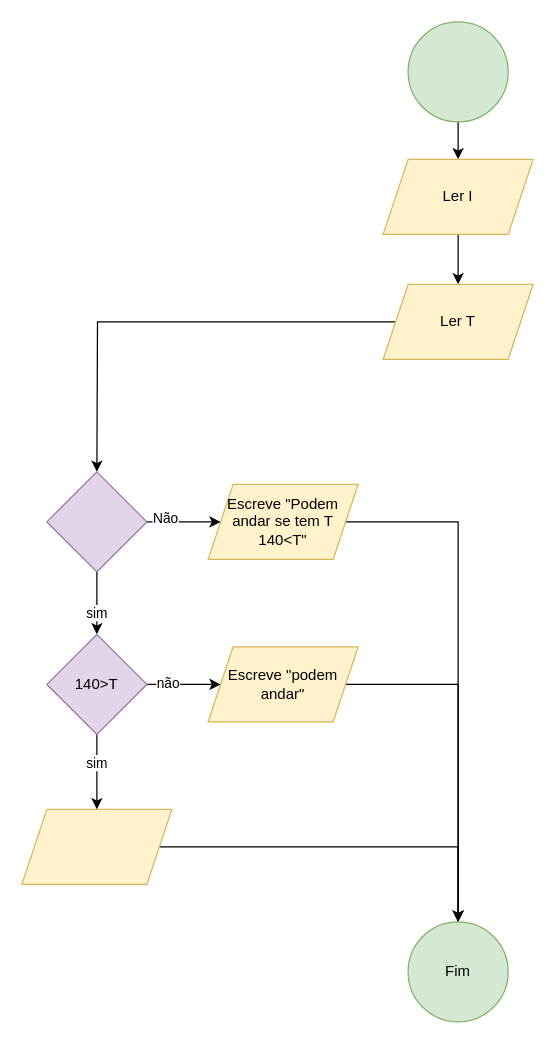
Image size: 555x1044. Some labels were removed from this diagram. Here are the shapes that lost their labels. From the top down, the centre of each, then its label:
point (457, 71): Início
point (96, 521): 12>I
point (96, 846): Escreve "dados invalído
